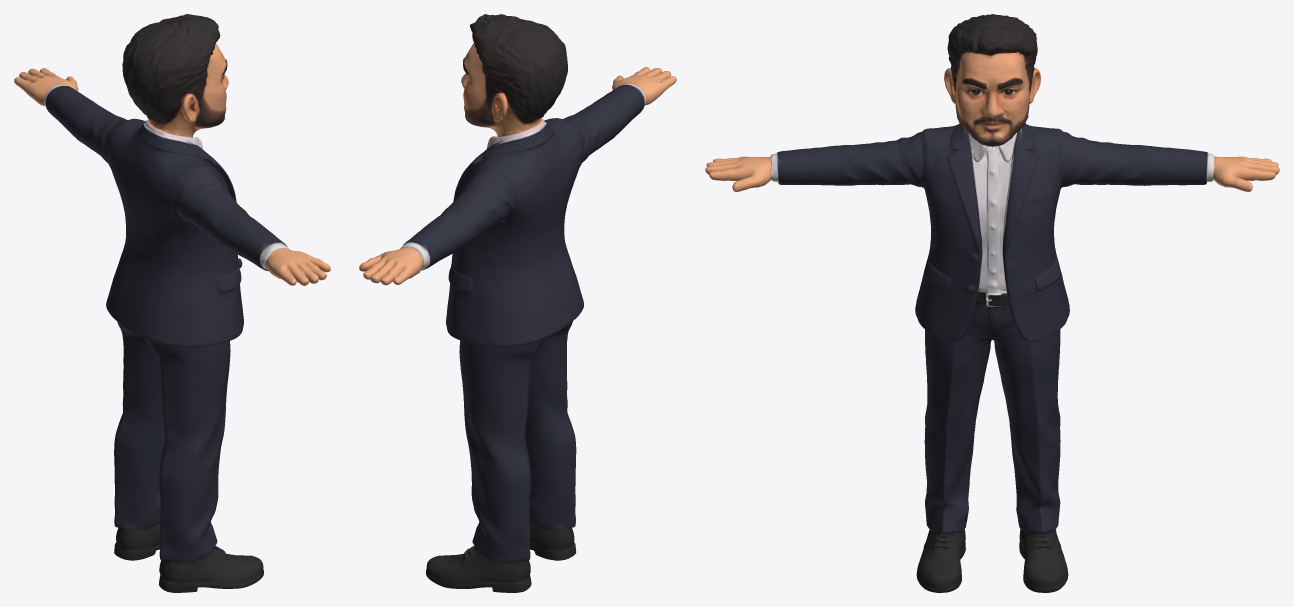
Rendered from abdul-el-sayed.glb.
The picture shows the model from 3 angles, left to right: view 1: azimuth 30°, elevation 25°; view 2: azimuth 150°, elevation 25°; view 3: azimuth 270°, elevation 25°; orthographic projection.
Visible parts, largest first — view 1: tripo_node_0f940f86-acf9-461d-9eac-4bfd7e08d0bd; view 2: tripo_node_0f940f86-acf9-461d-9eac-4bfd7e08d0bd; view 3: tripo_node_0f940f86-acf9-461d-9eac-4bfd7e08d0bd.
Boxes of the visible parts, x1,y1,x2,y2 form: tripo_node_0f940f86-acf9-461d-9eac-4bfd7e08d0bd: (14,14,330,592); tripo_node_0f940f86-acf9-461d-9eac-4bfd7e08d0bd: (359,14,676,592); tripo_node_0f940f86-acf9-461d-9eac-4bfd7e08d0bd: (705,14,1279,592).
Size of the model in its own units: 0.2166 by 1 by 0.9475.
1 material, 1 textured.
